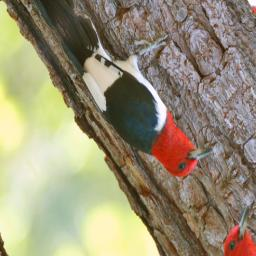Woodpecker: (54, 0, 230, 213)
